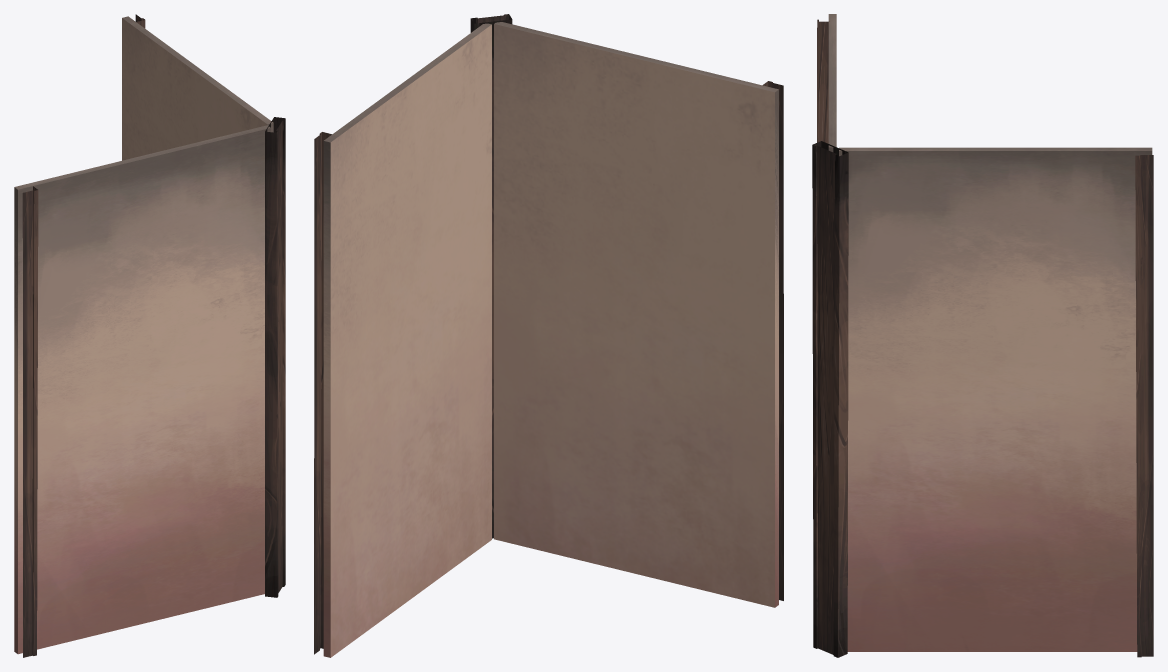
The model's file is Wall_Mid_OuterCorner_V1.fbx.
3 views of the same model, side by side, from view 1: azimuth 30°, elevation 25°; view 2: azimuth 150°, elevation 25°; view 3: azimuth 270°, elevation 25° (orthographic). The views are drawn at different scales.
Visible parts, largest first — view 1: Outer_Corner_Wall_Mid; view 2: Outer_Corner_Wall_Mid; view 3: Outer_Corner_Wall_Mid.
Boxes of the visible parts, x1,y1,x2,y2 form: Outer_Corner_Wall_Mid: (14, 14, 285, 657); Outer_Corner_Wall_Mid: (314, 14, 783, 657); Outer_Corner_Wall_Mid: (812, 14, 1153, 657).
Size of the model in its own units: 0.0258 by 0.0421 by 0.0259.
